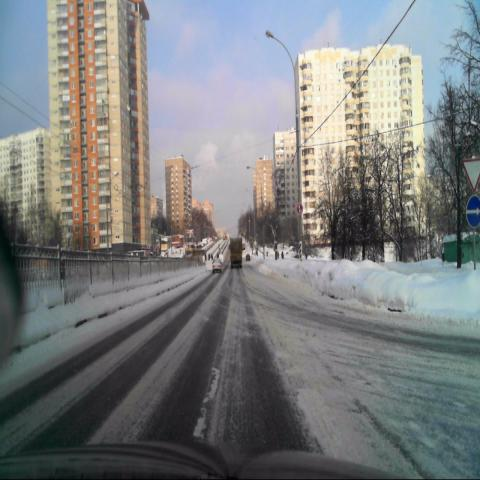4_1_2_1: (465, 194, 479, 229)
